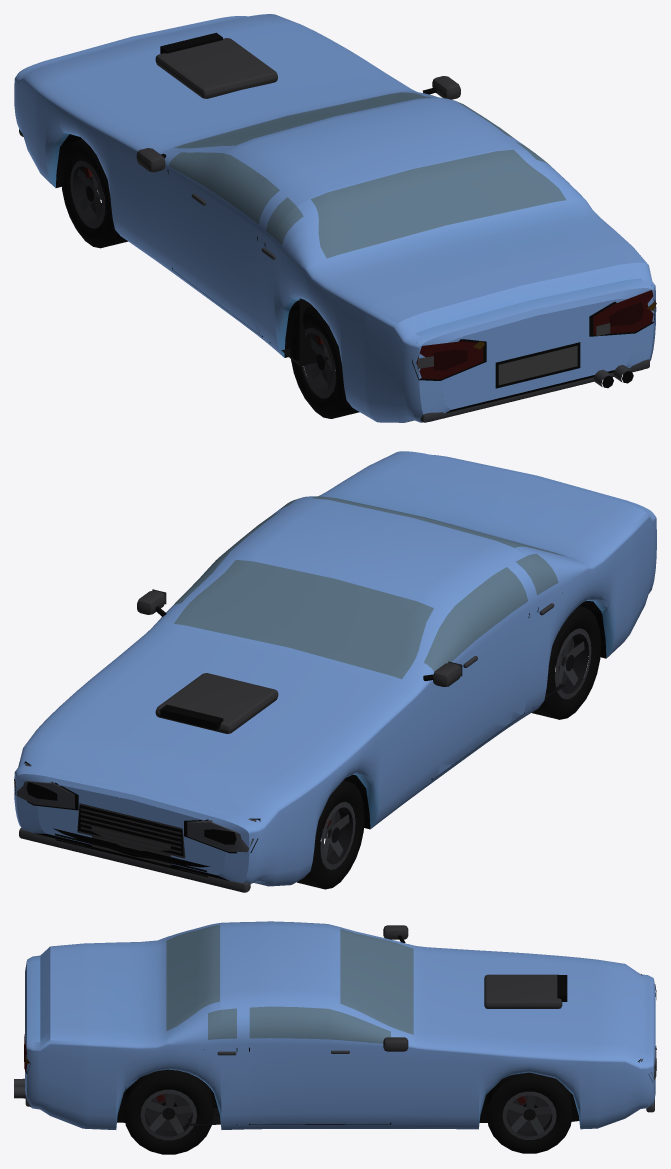
The model's file is cv2_muscle.glb.
3 views of the same model, one above another, from view 1: azimuth 30°, elevation 25°; view 2: azimuth 150°, elevation 25°; view 3: azimuth 270°, elevation 25° (orthographic). The views are drawn at different scales.
Visible parts, largest first — view 1: Body, DoorL_Mesh; view 2: Body, DoorL_Mesh; view 3: Body, DoorR_Mesh.
Part boxes in pixels (box(x1,y1,x2,y2)): Body: box(14, 14, 656, 422); DoorL_Mesh: box(168, 152, 279, 333); Body: box(14, 451, 656, 892); DoorL_Mesh: box(424, 577, 529, 775); Body: box(14, 921, 656, 1154); DoorR_Mesh: box(249, 1006, 390, 1124).
Size of what is drawn, in the model's own units: 2.22 by 1.32 by 5.1.
